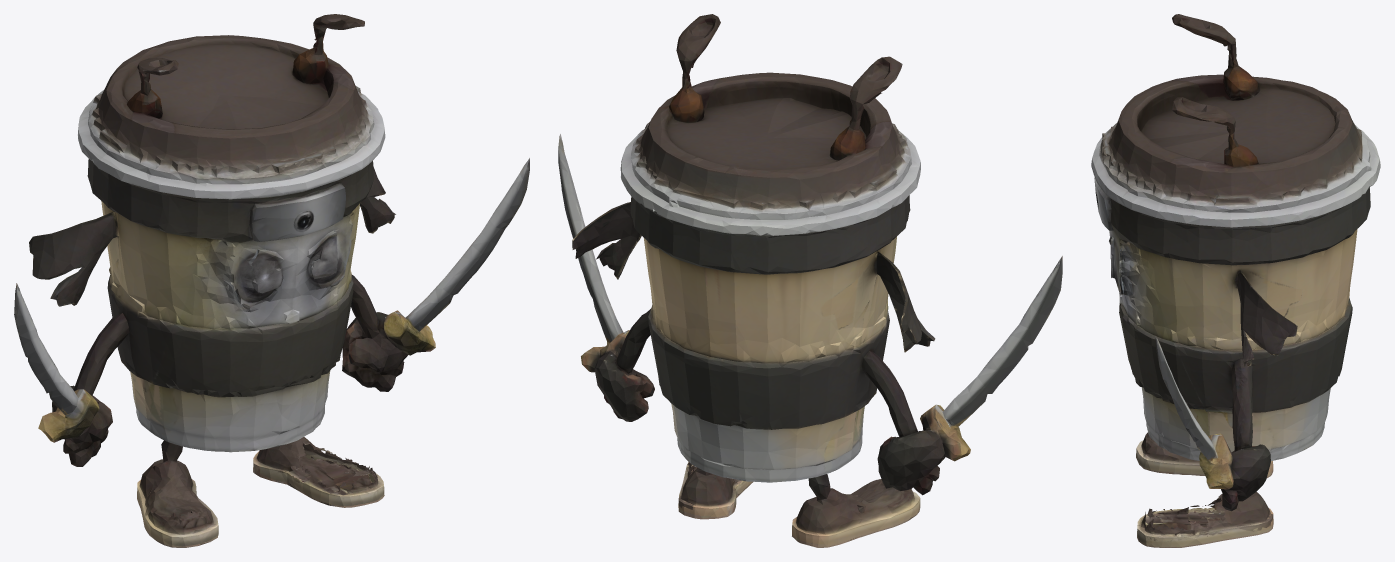
File: Ninja_Latte_Warrior_0502104914_texture.fbx
The picture shows the model from 3 angles, left to right: view 1: azimuth 30°, elevation 25°; view 2: azimuth 150°, elevation 25°; view 3: azimuth 270°, elevation 25°; orthographic projection. The views are drawn at different scales.
Visible parts, largest first — view 1: temp; view 2: temp; view 3: temp.
Part boxes in pixels (left/top/right/bottom): temp: left=14, top=14, right=529, bottom=547; temp: left=558, top=14, right=1062, bottom=547; temp: left=1091, top=14, right=1380, bottom=547.
Size of the model in its own units: 200 by 175 by 104.
Materials: 1 (1 with a texture image).
